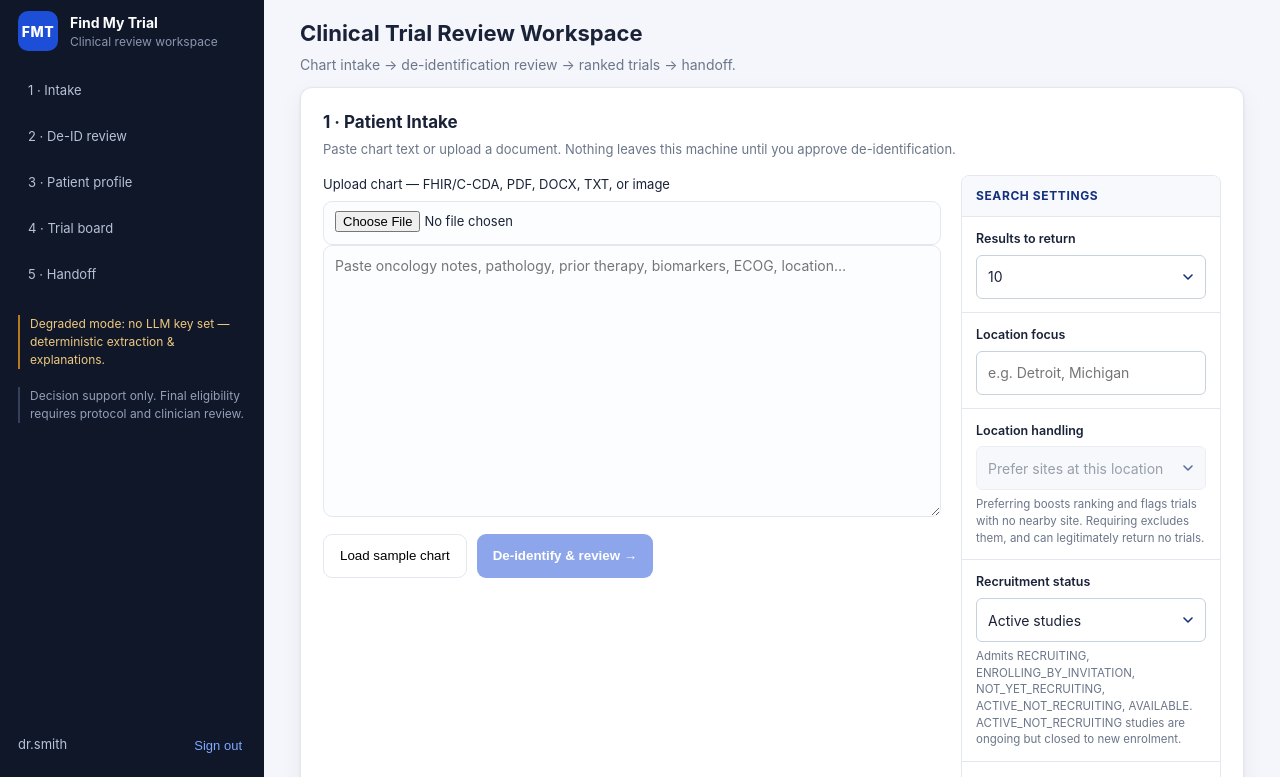
de-identification approval gate › stops at a 422 refusal and never sends the text to match
Expected: the heading "Clinical Trial Review Workspace" is shown, 300,20 -> 643,46
Replace the text in the text box named "chart text" with "chart": {"x": 632, "y": 380} 323,244 -> 941,516
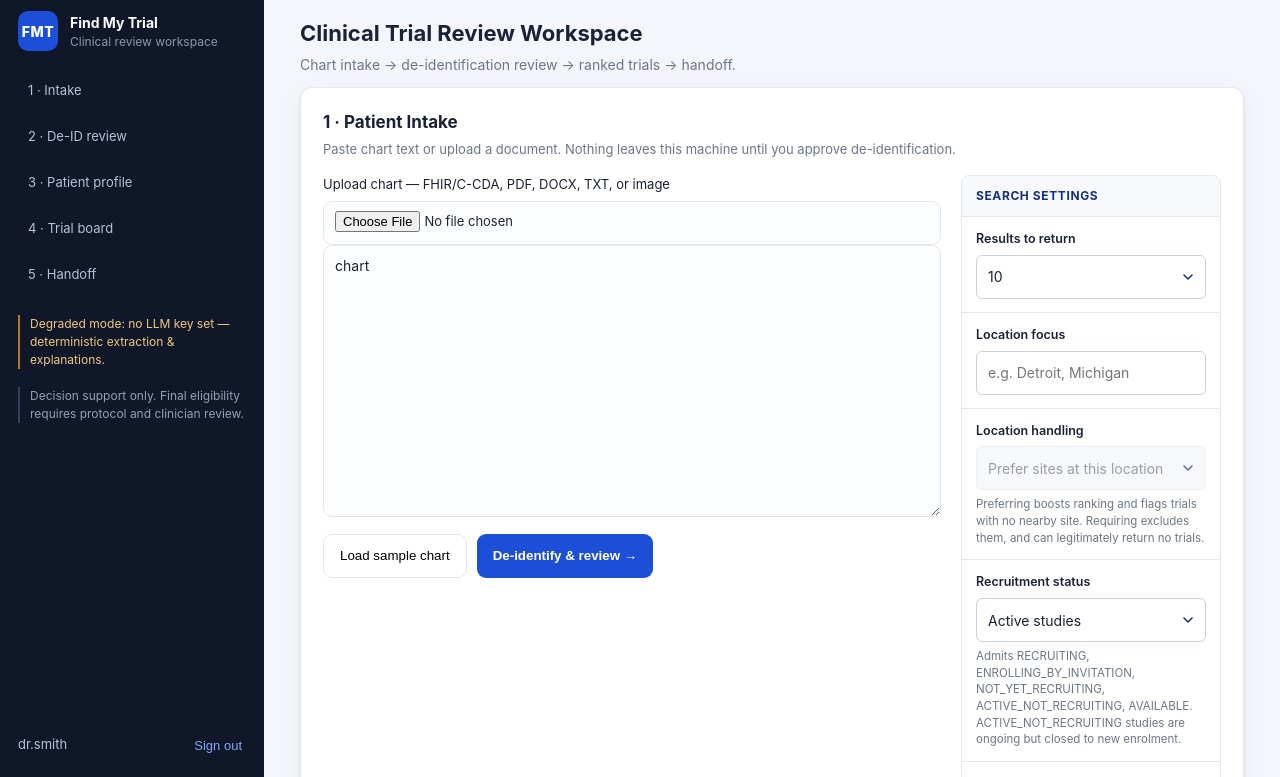
Click the button "De-identify & review →": {"x": 565, "y": 556} 477,534 -> 653,578
(page scrolled)
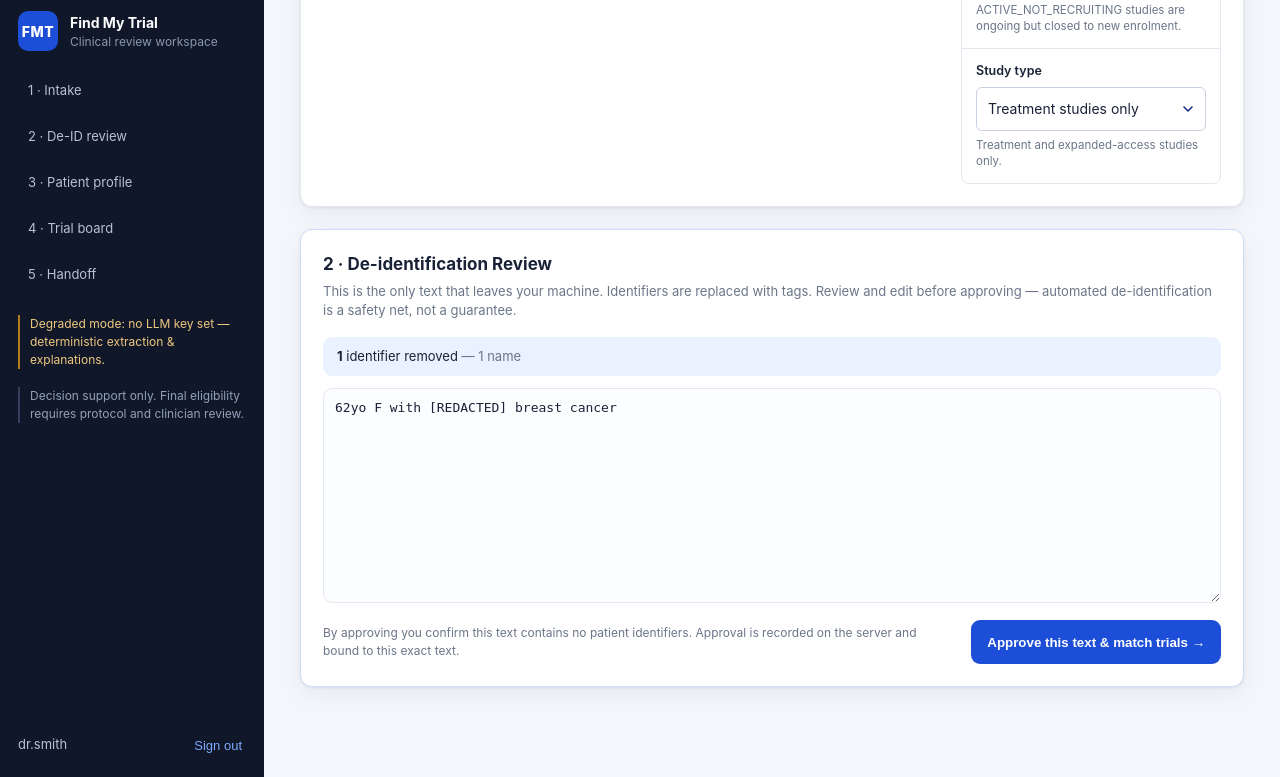
Click the button "Approve this text & match trials →": {"x": 1096, "y": 642} 971,620 -> 1221,664
(page scrolled)
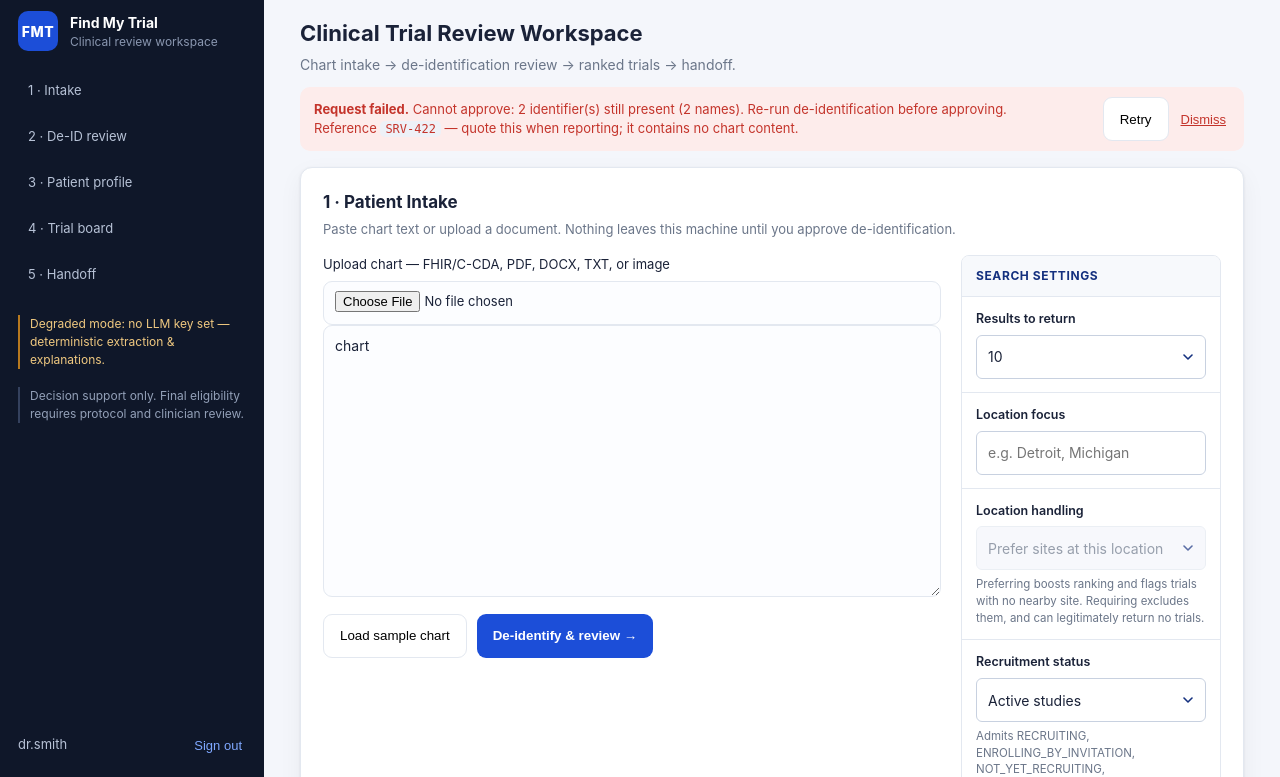
Now the text "2 identifier(s) still present" is shown, box 413,100 -> 1007,116
